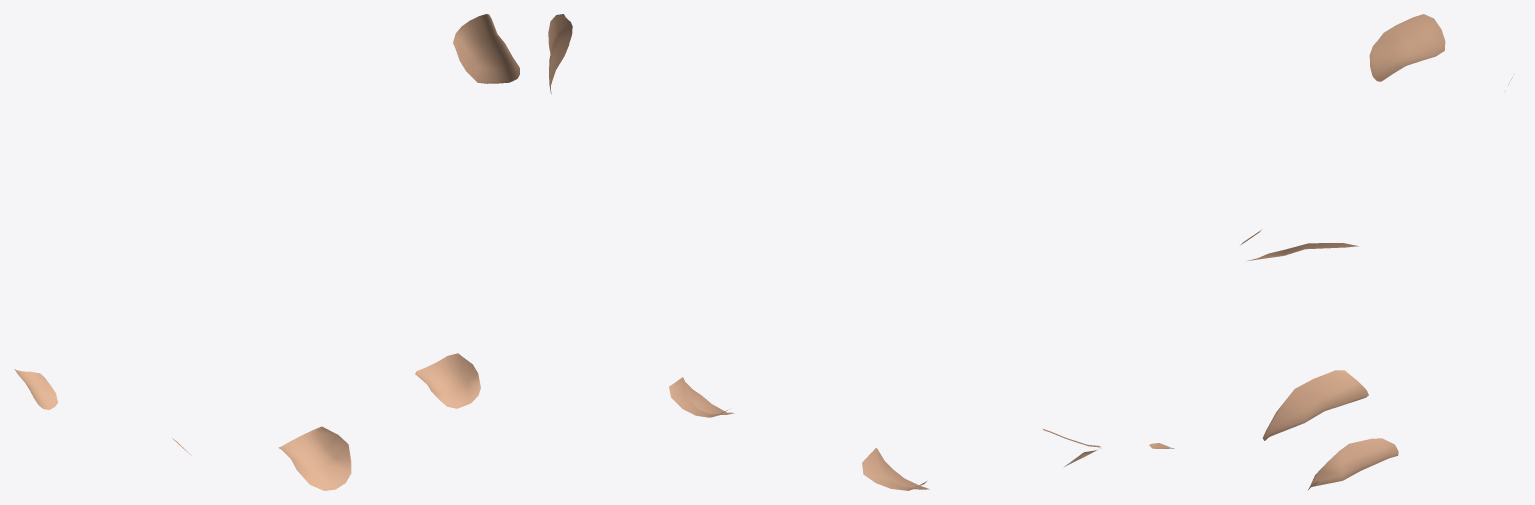
The model's file is nail-plate-l.glb.
3 renders of one model, left to right at view 1: azimuth 30°, elevation 25°; view 2: azimuth 150°, elevation 25°; view 3: azimuth 270°, elevation 25°, orthographic. The views are drawn at different scales.
Visible parts, largest first — view 1: Nail plate.l; view 2: Nail plate.l; view 3: Nail plate.l.
Boxes of the visible parts, box(x1,y1,x2,y2) form: Nail plate.l: box(14, 14, 519, 490); Nail plate.l: box(548, 14, 1174, 490); Nail plate.l: box(1240, 14, 1512, 489).
Bounding box in the file's own units: 0.1151 × 0.0812 × 0.037.
